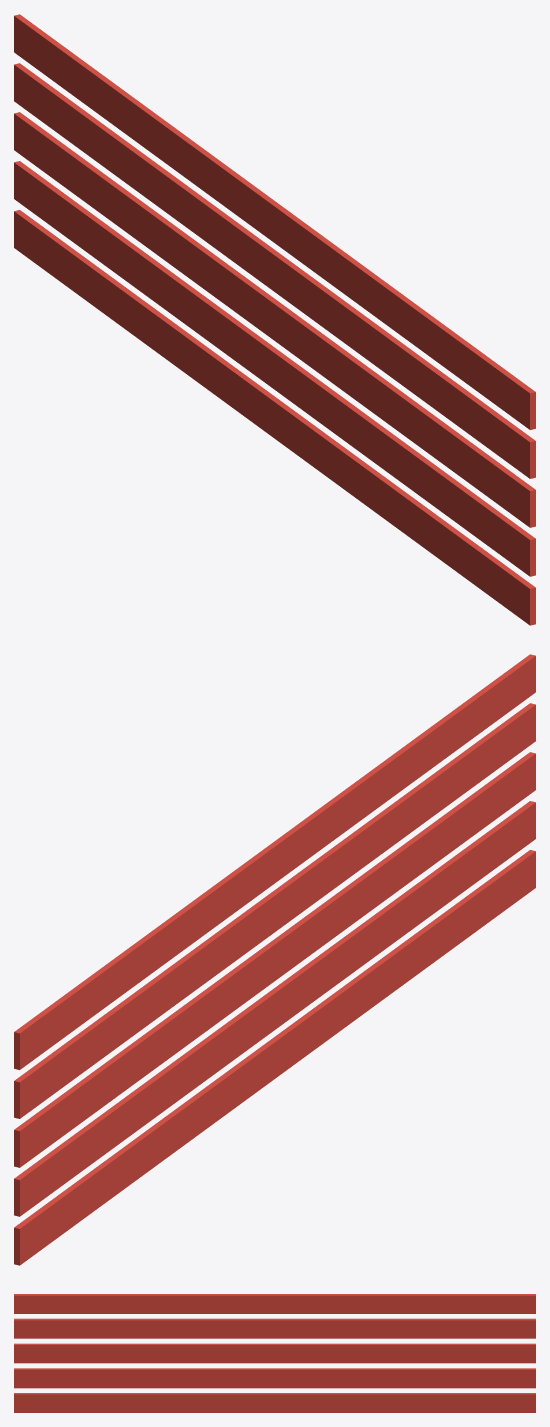
The model's file is leaderboardBars.glb.
The picture shows the model from 3 angles, top to bottom: view 1: azimuth 30°, elevation 25°; view 2: azimuth 150°, elevation 25°; view 3: azimuth 270°, elevation 25°; orthographic projection. The views are drawn at different scales.
Visible parts, largest first — view 1: Plane.081, Plane.083, Plane.084, Plane.086, Plane.082; view 2: Plane.081, Plane.083, Plane.084, Plane.086, Plane.082; view 3: Plane.081, Plane.082, Plane.083, Plane.084, Plane.086.
Part boxes in pixels (x1=…): Plane.081: x1=14, y1=63, x2=535, y2=478; Plane.083: x1=14, y1=161, x2=535, y2=576; Plane.084: x1=14, y1=210, x2=535, y2=625; Plane.086: x1=14, y1=14, x2=535, y2=429; Plane.082: x1=14, y1=112, x2=535, y2=527; Plane.081: x1=14, y1=703, x2=535, y2=1118; Plane.083: x1=14, y1=801, x2=535, y2=1216; Plane.084: x1=14, y1=850, x2=535, y2=1265; Plane.086: x1=14, y1=654, x2=535, y2=1069; Plane.082: x1=14, y1=752, x2=535, y2=1167; Plane.081: x1=14, y1=1318, x2=535, y2=1338; Plane.082: x1=14, y1=1343, x2=535, y2=1363; Plane.083: x1=14, y1=1368, x2=535, y2=1388; Plane.084: x1=14, y1=1393, x2=535, y2=1412; Plane.086: x1=14, y1=1294, x2=535, y2=1313.
Bounding box in the file's own units: 0.1554 × 5.91 × 23.8.
1 material, 1 textured.
